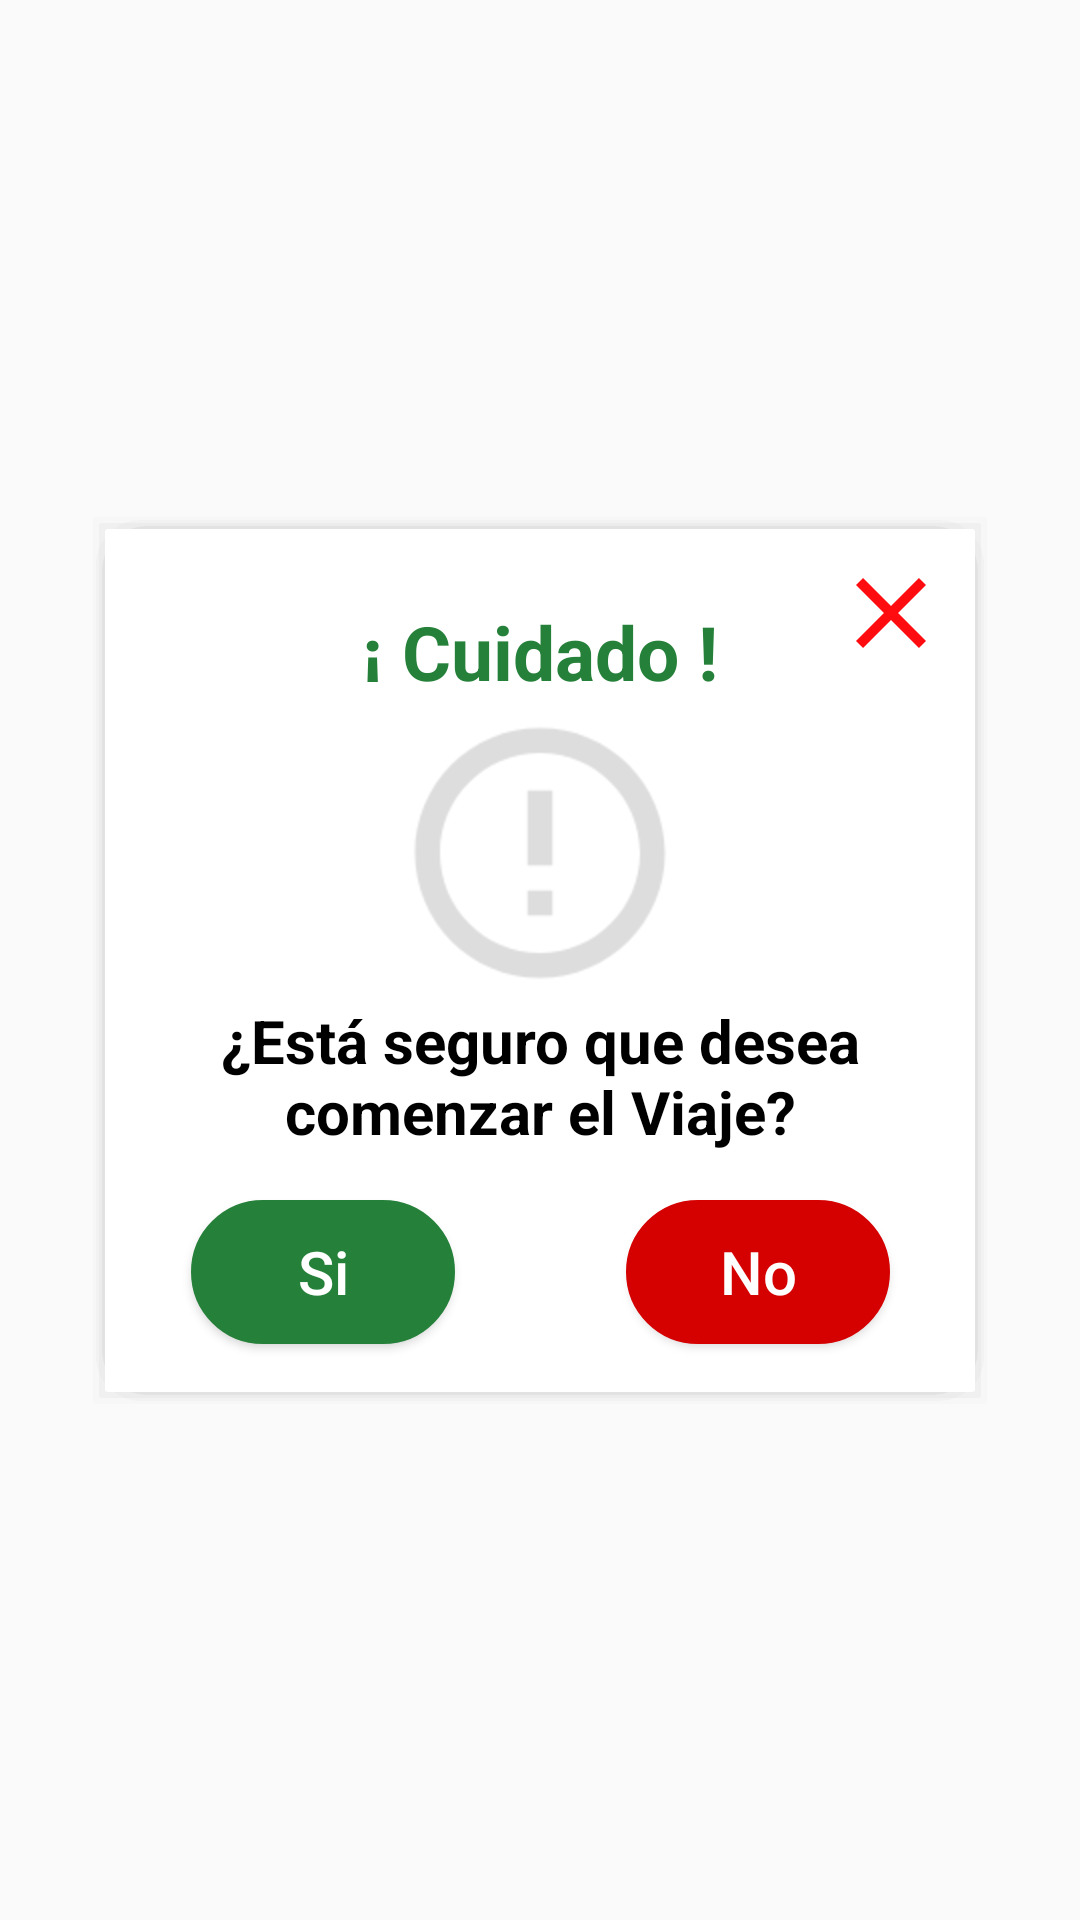

Named icons in this screenshot (1080px×1920px) and their centers, (x,y):
delete: (891,613)
